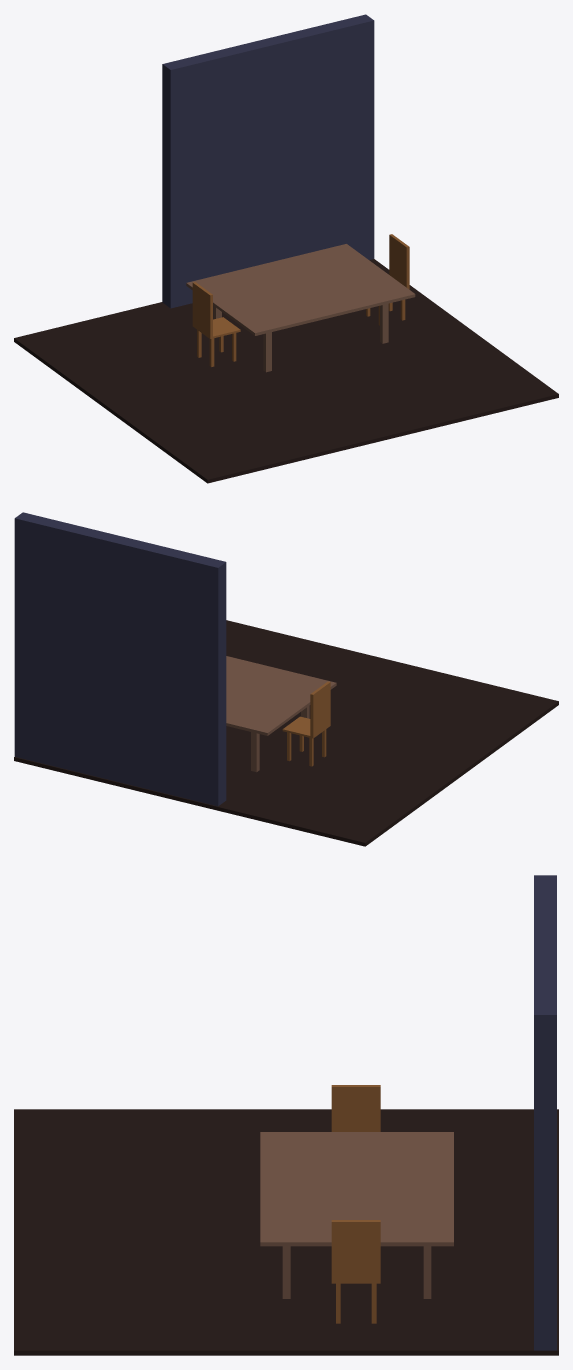
The picture shows the model from 3 angles, top to bottom: view 1: azimuth 30°, elevation 25°; view 2: azimuth 150°, elevation 25°; view 3: azimuth 270°, elevation 25°; orthographic projection. The views are drawn at different scales.
Visible parts, largest first — view 1: Cube, Cube.004, Cube.001, Cube.003, Cube.002; view 2: Cube.004, Cube, Cube.001, Cube.003; view 3: Cube, Cube.001, Cube.004, Cube.002, Cube.003.
Boxes of the visible parts, x1,y1,x2,y2 form: Cube: [14, 259, 558, 483]; Cube.004: [162, 14, 374, 308]; Cube.001: [186, 244, 415, 372]; Cube.003: [192, 282, 240, 366]; Cube.002: [366, 234, 409, 325]; Cube.004: [14, 512, 226, 806]; Cube: [14, 620, 558, 846]; Cube.001: [226, 656, 336, 772]; Cube.003: [282, 681, 330, 766]; Cube: [14, 1109, 558, 1355]; Cube.001: [260, 1132, 453, 1298]; Cube.004: [534, 875, 556, 1350]; Cube.002: [331, 1220, 380, 1323]; Cube.003: [331, 1085, 380, 1131].
Bounding box in the file's own units: 47.77 × 31.46 × 45.59.
